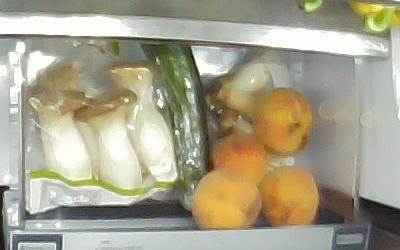peach: (190, 169, 263, 228), (254, 88, 314, 158), (258, 166, 318, 225), (208, 133, 269, 180)
